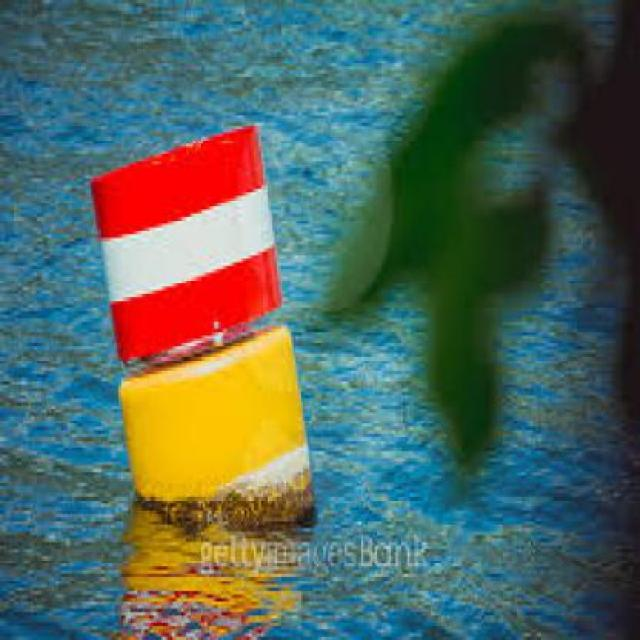buoy: (77, 106, 325, 533)
